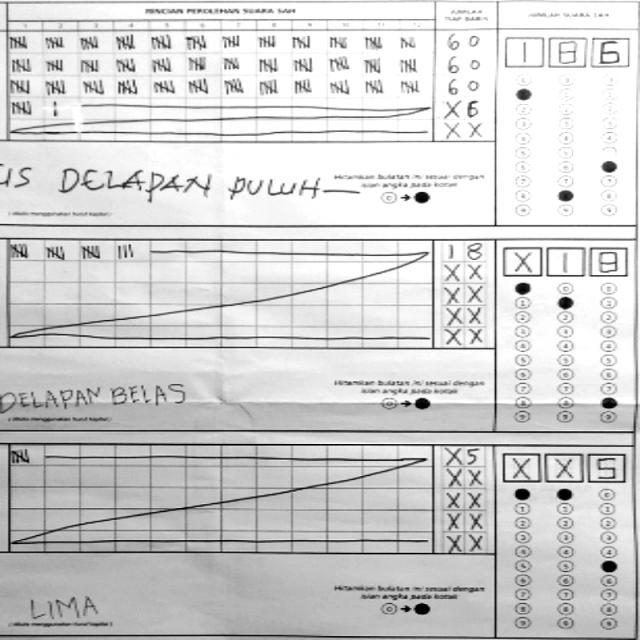Suara: (499, 240, 632, 282), (499, 447, 632, 488), (502, 32, 634, 73)
